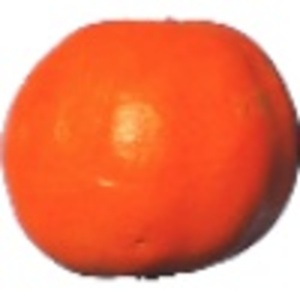tangerina: (1, 16, 300, 283)
